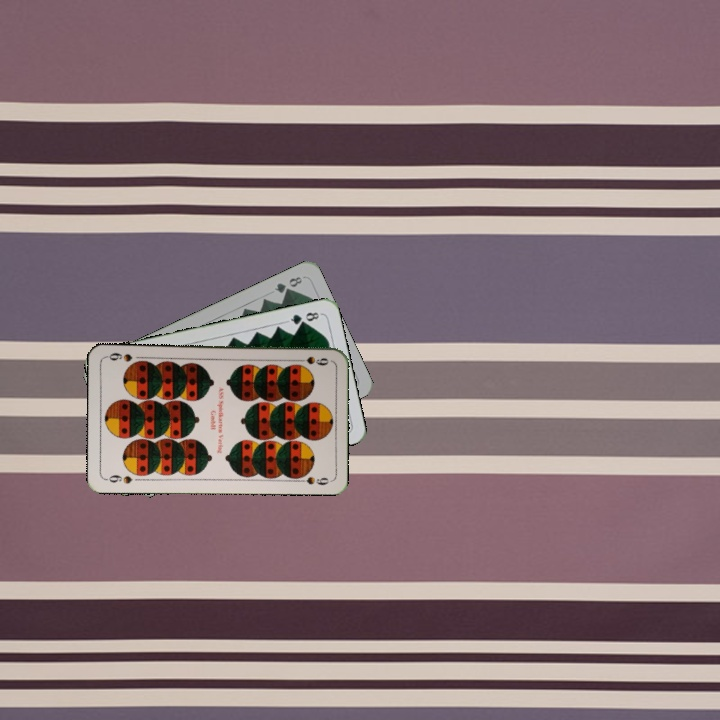G8: (270, 272, 305, 296), (283, 308, 323, 327)
S9: (292, 352, 331, 368), (102, 470, 135, 486)
